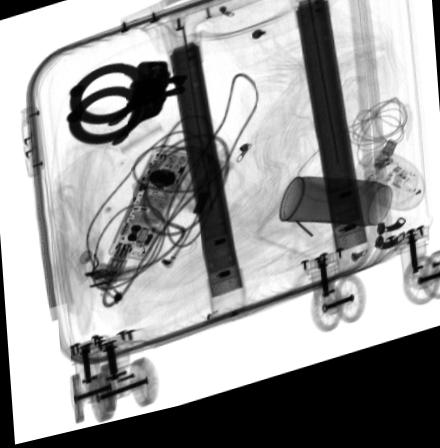HandCuffs: (64, 67, 189, 150)
